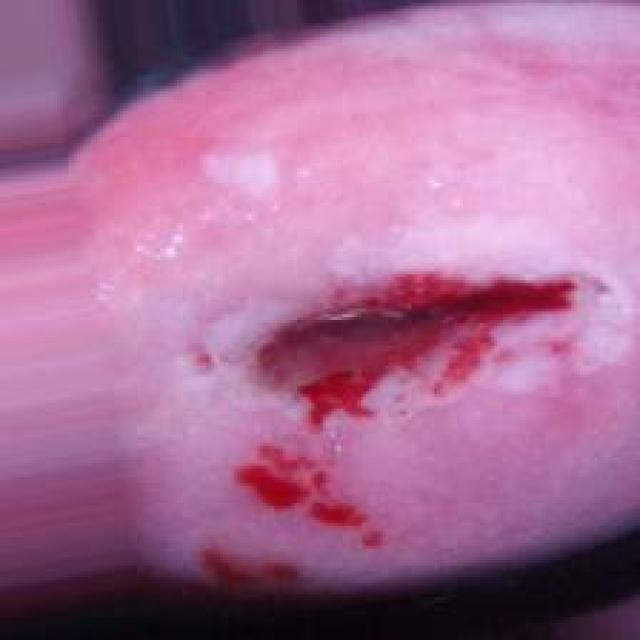type-3: (75, 77, 640, 591)
